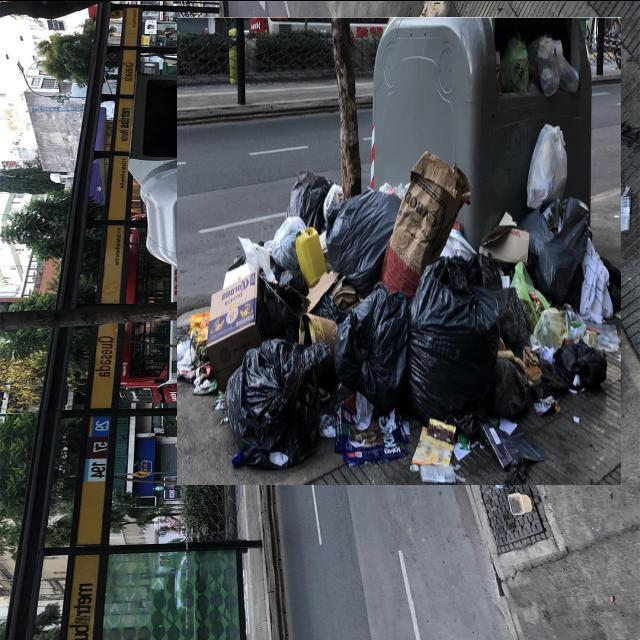Trashbag: (408, 255, 504, 434), (220, 331, 332, 466), (340, 287, 416, 414), (326, 186, 404, 298), (527, 197, 590, 296), (286, 168, 340, 238), (550, 331, 612, 391)
